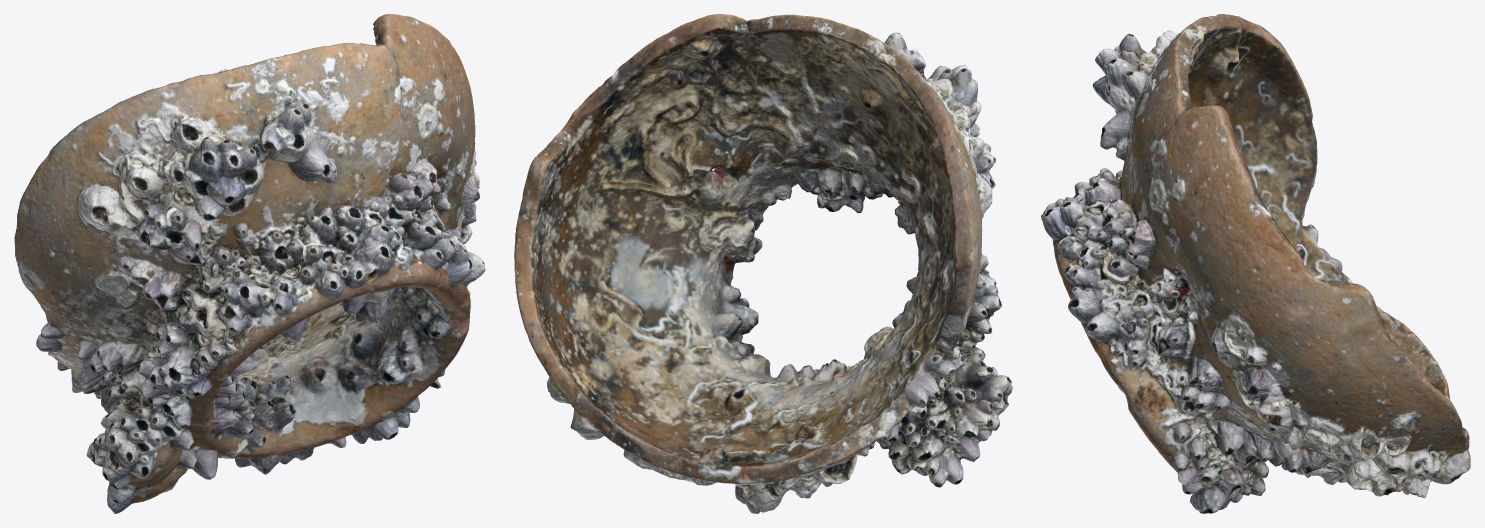
File: MZUR3D-009.glb
The picture shows the model from 3 angles, left to right: view 1: azimuth 30°, elevation 25°; view 2: azimuth 150°, elevation 25°; view 3: azimuth 270°, elevation 25°; orthographic projection. The views are drawn at different scales.
Visible parts, largest first — view 1: MZUR3D-009; view 2: MZUR3D-009; view 3: MZUR3D-009.
Boxes of the visible parts, bbox=[...] form: MZUR3D-009: bbox=[14, 14, 485, 513]; MZUR3D-009: bbox=[514, 14, 1012, 513]; MZUR3D-009: bbox=[1041, 14, 1470, 513].
Size of the model in its own units: 2.81 by 2.62 by 2.36.
Materials: 1 (1 with a texture image).
